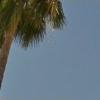Palm tree: (2, 1, 45, 100)
